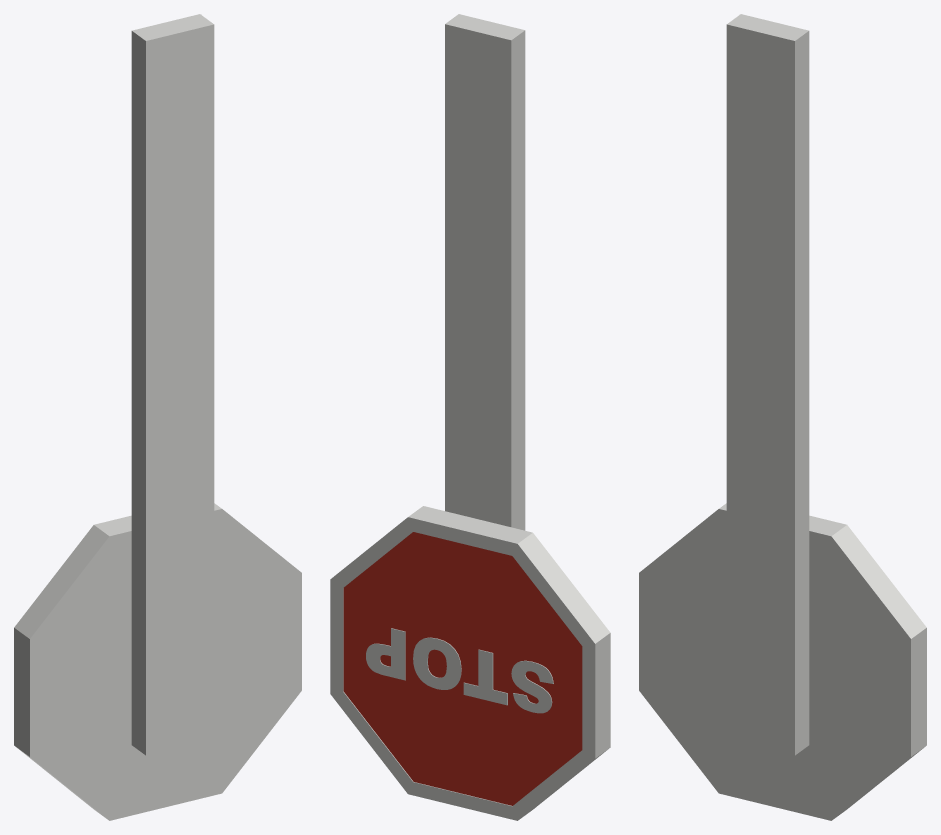
File: stop.obj
3 views of the same model, side by side, from view 1: azimuth 30°, elevation 25°; view 2: azimuth 150°, elevation 25°; view 3: azimuth 330°, elevation 25° (orthographic). The views are drawn at different scales.
Parts seen in each view (by area): view 1: Body1_Paint - Enamel Glossy (White); view 2: Body1_Paint - Enamel Glossy (White), Body1_Paint - Enamel Glossy (Red); view 3: Body1_Paint - Enamel Glossy (White).
Part boxes in pixels (left/top/right/bottom): Body1_Paint - Enamel Glossy (White): left=14, top=14, right=301, bottom=820; Body1_Paint - Enamel Glossy (White): left=330, top=14, right=610, bottom=820; Body1_Paint - Enamel Glossy (Red): left=343, top=532, right=582, bottom=805; Body1_Paint - Enamel Glossy (White): left=639, top=14, right=926, bottom=820.
Size of the model in its own units: 0.1992 by 0.5492 by 0.0381.
